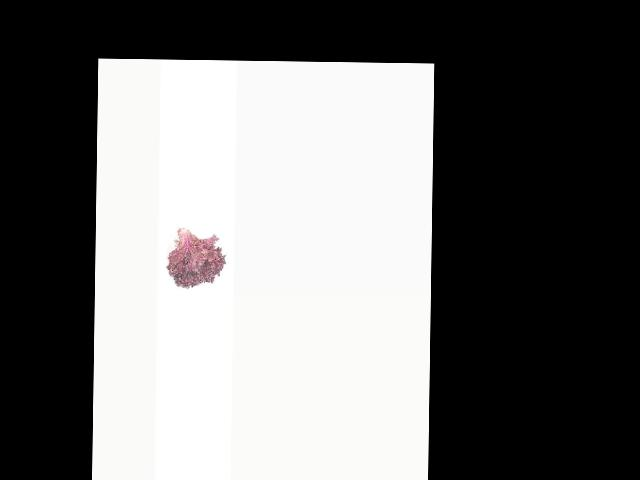lettuce: (168, 221, 228, 292)
